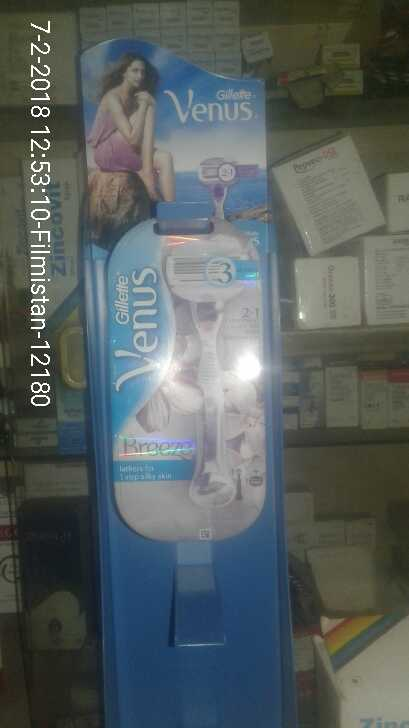venus: (107, 214, 269, 544)
